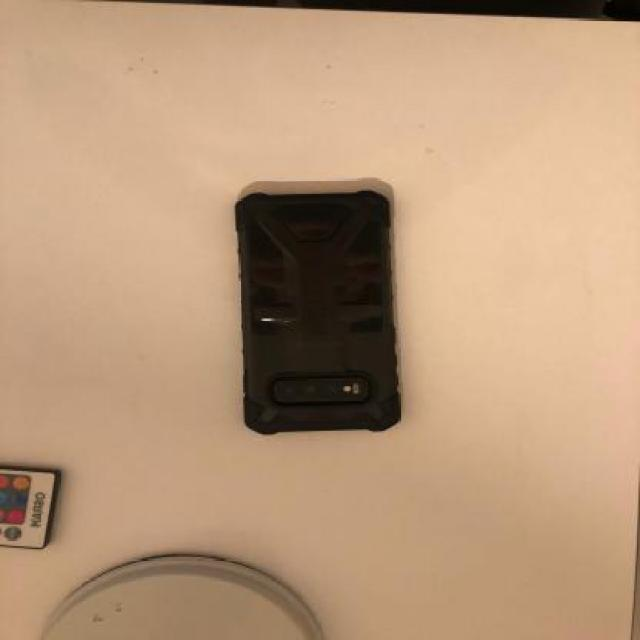phone: (236, 192, 399, 436)
